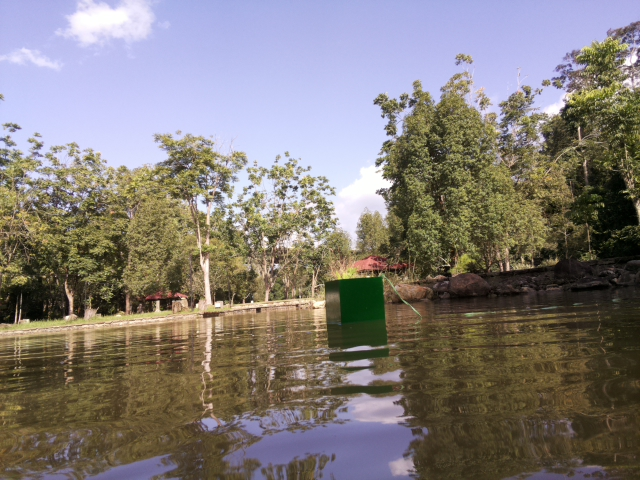obstacle: (323, 276, 387, 326)
